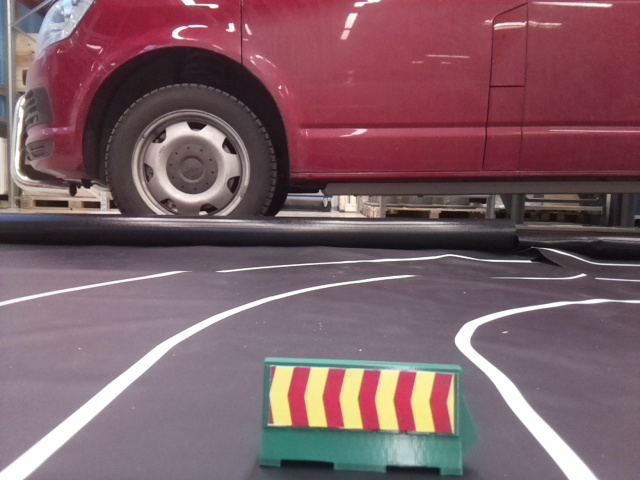ClosedRoadStand: (262, 358, 463, 472)
